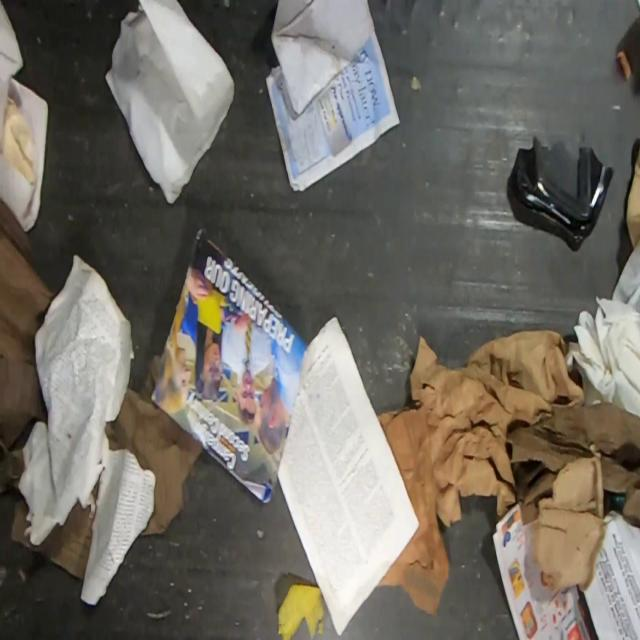cardboard: (105, 356, 203, 535), (0, 196, 56, 497), (377, 406, 449, 616), (534, 451, 606, 592), (12, 499, 96, 579), (626, 142, 640, 249)
rigid_plastic: (506, 135, 614, 250)
